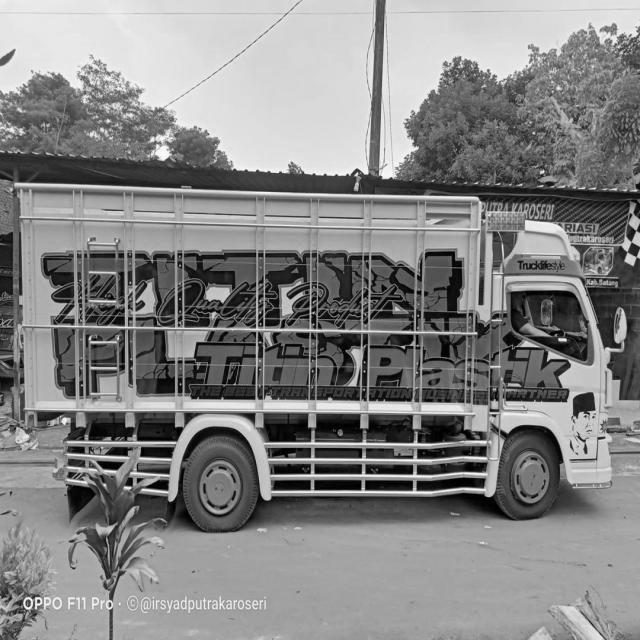truck: (461, 181, 638, 527)
